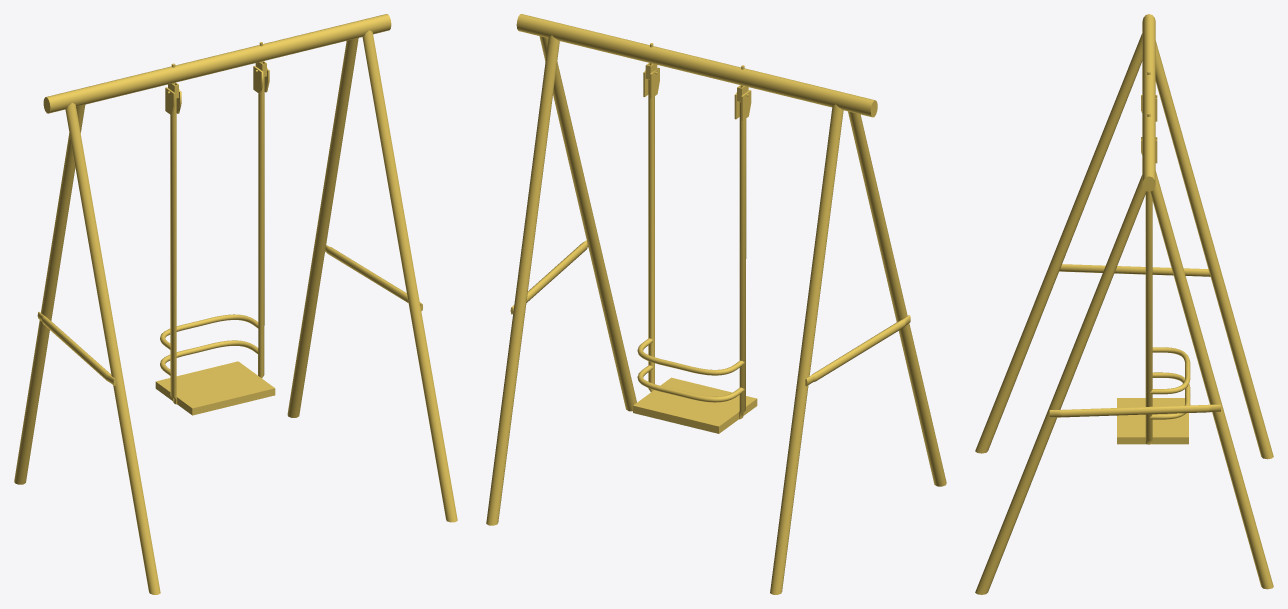
The model's file is Swing.fbx.
3 renders of one model, left to right at view 1: azimuth 30°, elevation 25°; view 2: azimuth 150°, elevation 25°; view 3: azimuth 270°, elevation 25°, orthographic. The views are drawn at different scales.
Visible parts, largest first — view 1: swing_base, swing_mid, swing_seat, swing_mid_details; view 2: swing_base, swing_mid, swing_seat, swing_mid_details; view 3: swing_base, swing_mid, swing_seat.
Boxes of the visible parts, box(x1,y1,x2,y2) form: swing_base: box(14, 14, 457, 594); swing_mid: box(160, 77, 264, 404); swing_seat: box(155, 361, 275, 415); swing_mid_details: box(165, 42, 269, 115); swing_base: box(486, 14, 946, 594); swing_mid: box(637, 79, 746, 419); swing_seat: box(633, 377, 757, 433); swing_mid_details: box(643, 43, 751, 120); swing_base: box(975, 14, 1273, 594); swing_mid: box(1145, 191, 1190, 444); swing_seat: box(1117, 398, 1188, 444).
Size of the model in its own units: 200 by 246 by 155.
